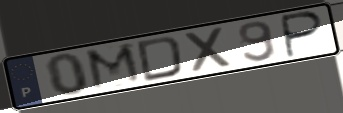0: (41, 52, 93, 98)
9: (236, 20, 277, 63)
D: (134, 34, 185, 84)
M: (82, 40, 146, 93)
P: (281, 9, 327, 60)
X: (182, 25, 236, 76)
